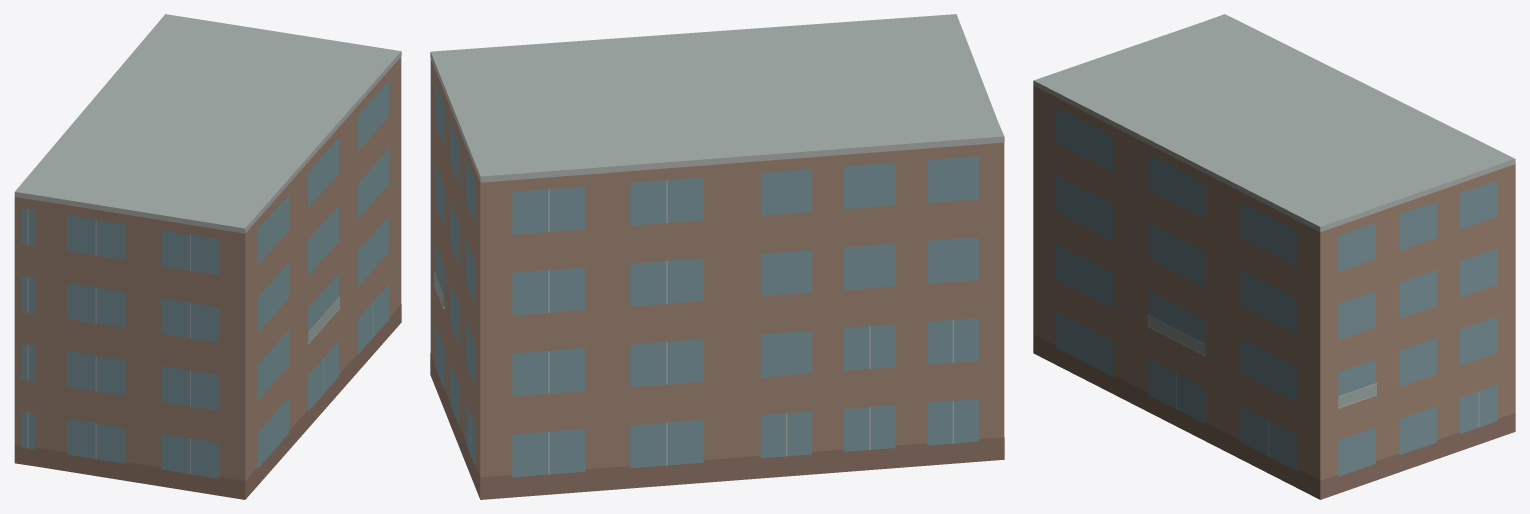
Rendered from survey-upis-33040729.glb.
3 views of the same model, side by side, from view 1: azimuth 30°, elevation 25°; view 2: azimuth 150°, elevation 25°; view 3: azimuth 270°, elevation 25° (orthographic). The views are drawn at different scales.
Parts seen in each view (by area): view 1: survey-upis-33040729.tmp; view 2: survey-upis-33040729.tmp; view 3: survey-upis-33040729.tmp.
Boxes of the visible parts, <box> form: survey-upis-33040729.tmp: <box>14,14,401,499</box>; survey-upis-33040729.tmp: <box>430,14,1004,499</box>; survey-upis-33040729.tmp: <box>1033,14,1515,499</box>.
Size of the model in its own units: 21.61 by 12.9 by 20.67.
